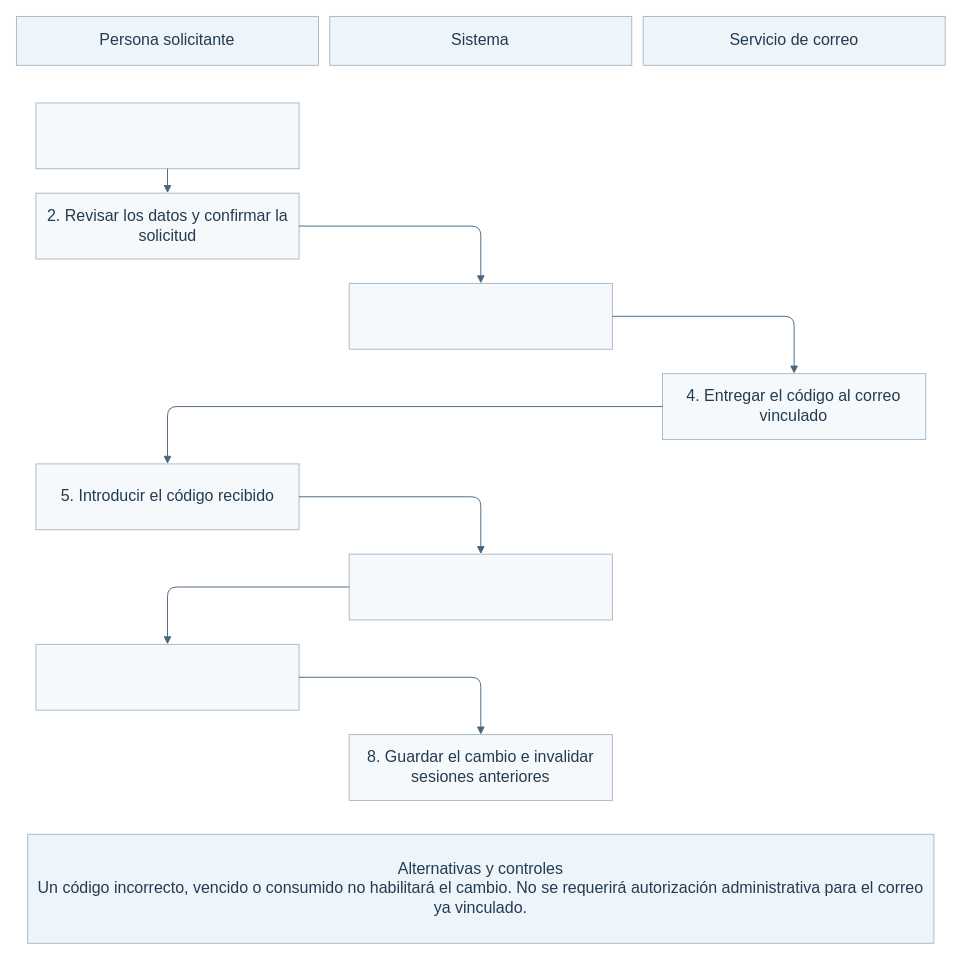
Some shapes in this 962 by 960 pixel diagram are drawn without their labels. Here are the shapes that lost their labels. From the top down, the centre of each, then its label:
the point at 167,135: 1. Indicar la cuenta y su correo ya verificado
the point at 480,315: 3. Solicitar la entrega de un código
the point at 480,586: 6. Validar el código y habilitar el cambio
the point at 167,676: 7. Escribir y confirmar la nueva contraseña
